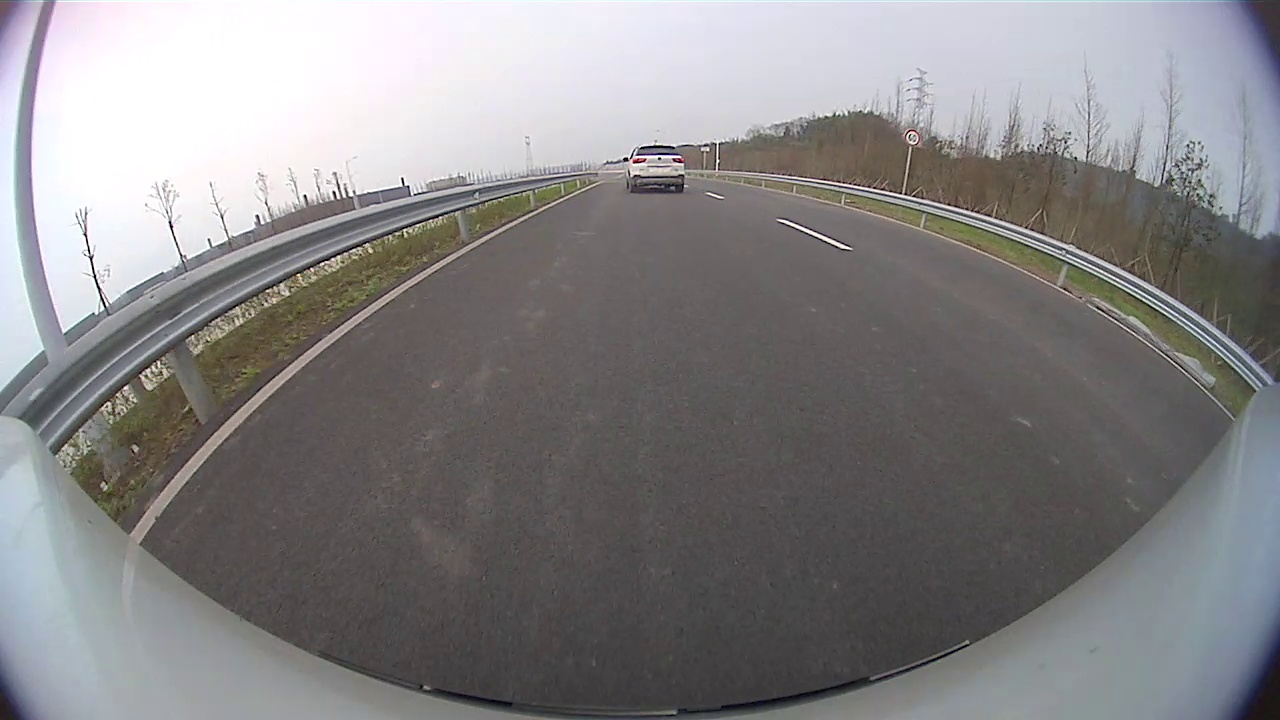car: (623, 145, 685, 193)
